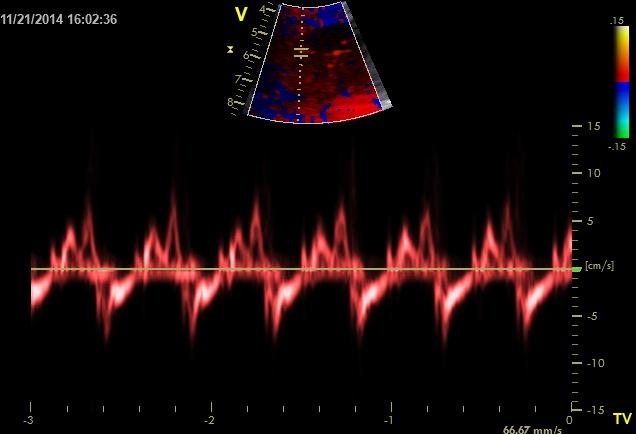Ultrasound-Waves: (32, 127, 571, 400)
